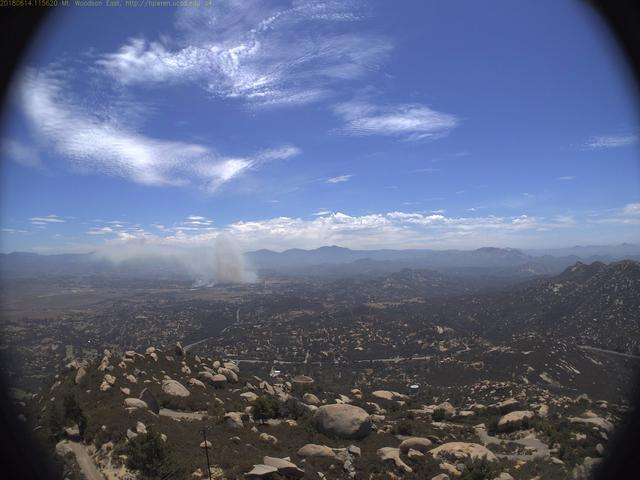smoke: (83, 214, 262, 297)
